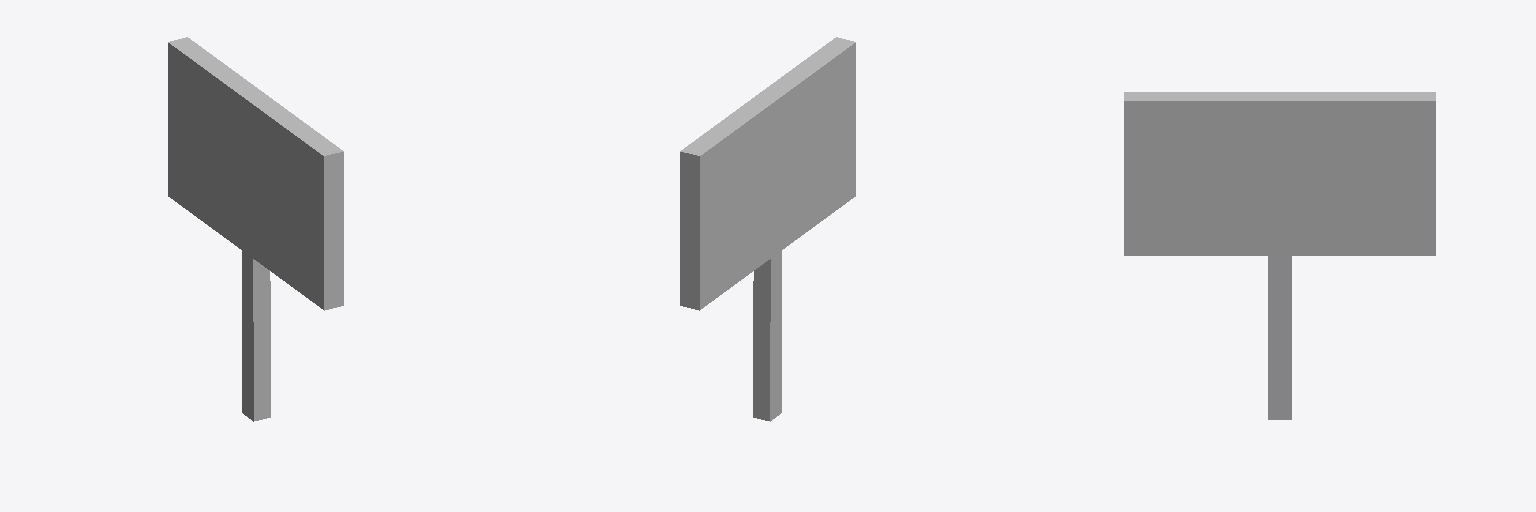
Rendered from Standing Sign.obj.
The picture shows the model from 3 angles: view 1: azimuth 30°, elevation 25°; view 2: azimuth 150°, elevation 25°; view 3: azimuth 270°, elevation 25°; orthographic projection.
Parts seen in each view (by area): view 1: Standing_Sign; view 2: Standing_Sign; view 3: Standing_Sign.
Boxes of the visible parts, x1=… form: Standing_Sign: x1=168, y1=37, x2=343, y2=421; Standing_Sign: x1=680, y1=37, x2=855, y2=421; Standing_Sign: x1=1124, y1=92, x2=1435, y2=419.
Bounding box in the file's own units: 0.0755 × 1.13 × 1.